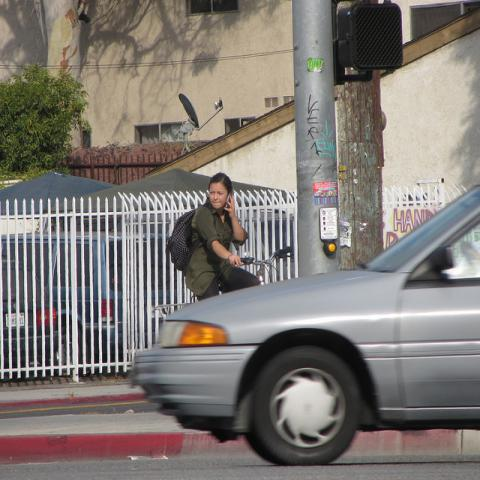car: (130, 181, 479, 469), (0, 255, 59, 377)
